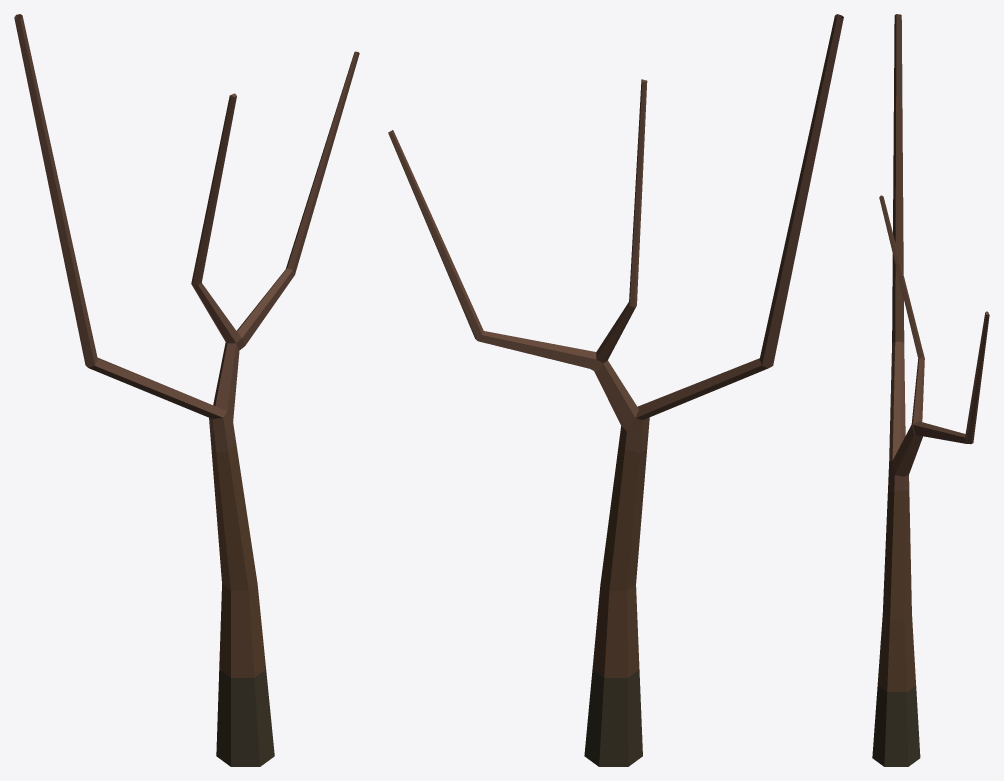
Rendered from Sapling_003.fbx.
The picture shows the model from 3 angles, left to right: view 1: azimuth 30°, elevation 25°; view 2: azimuth 150°, elevation 25°; view 3: azimuth 270°, elevation 25°; orthographic projection. The views are drawn at different scales.
Visible parts, largest first — view 1: Sapling.003; view 2: Sapling.003; view 3: Sapling.003.
Part boxes in pixels (x1=…): Sapling.003: x1=14, y1=14, x2=359, y2=766; Sapling.003: x1=388, y1=14, x2=843, y2=766; Sapling.003: x1=872, y1=14, x2=989, y2=766.
Bounding box in the file's own units: 1.73 × 3.29 × 0.5351.
